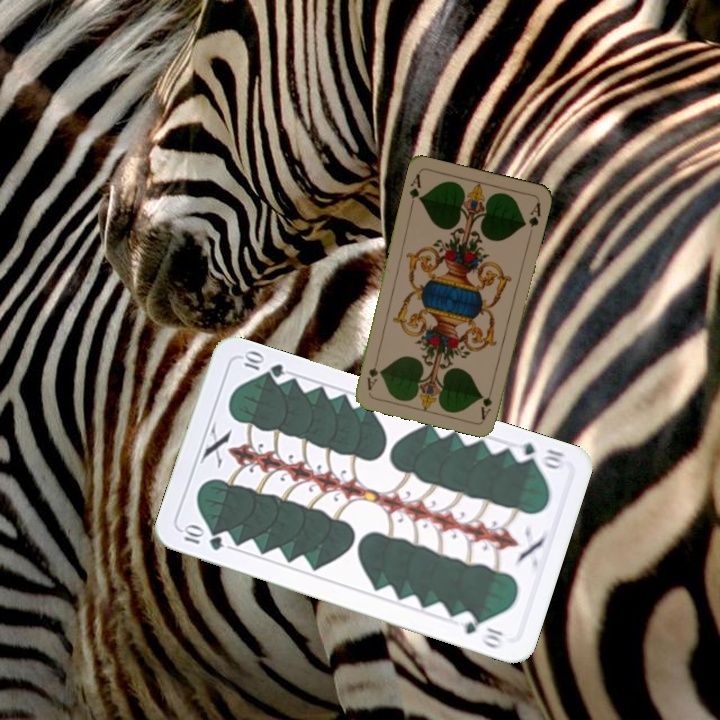G10: (508, 438, 568, 472), (177, 522, 227, 553)
GA: (405, 170, 424, 210), (477, 382, 496, 421)
